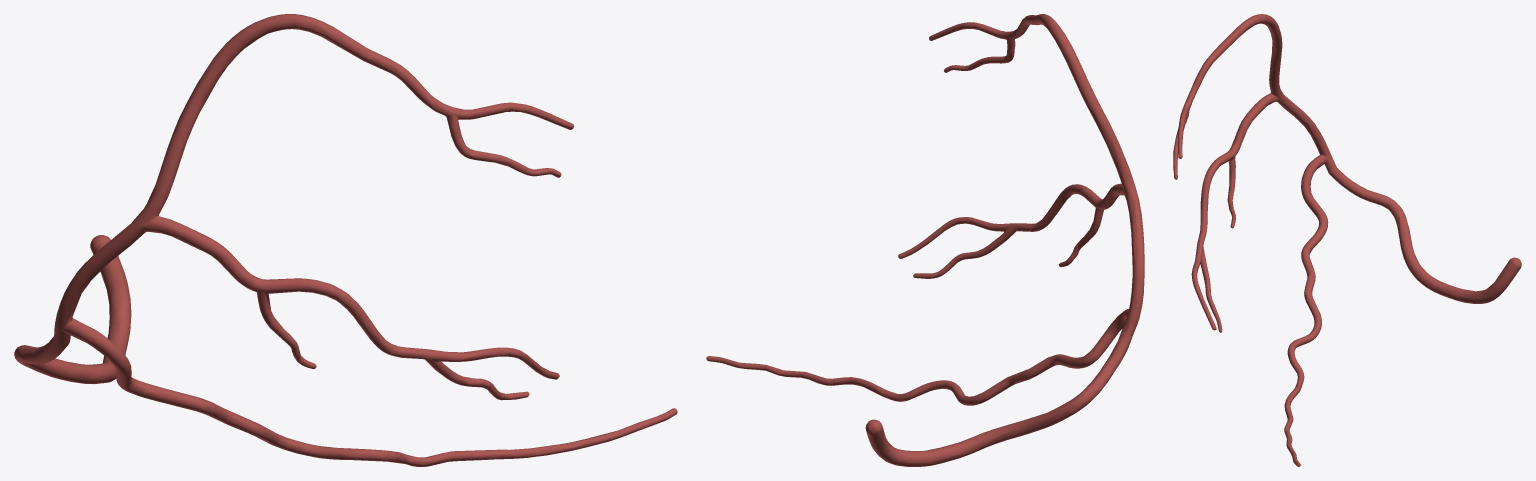
The model's file is FMA71567.glb.
The picture shows the model from 3 angles, left to right: view 1: azimuth 30°, elevation 25°; view 2: azimuth 150°, elevation 25°; view 3: azimuth 270°, elevation 25°; orthographic projection. The views are drawn at different scales.
Visible parts, largest first — view 1: FMA71567; view 2: FMA71567; view 3: FMA71567.
Boxes of the visible parts, <box> form: FMA71567: <box>14,14,677,466</box>; FMA71567: <box>706,14,1144,466</box>; FMA71567: <box>1173,14,1521,466</box>.
Bounding box in the file's own units: 0.0757 × 0.0644 × 0.0623.
